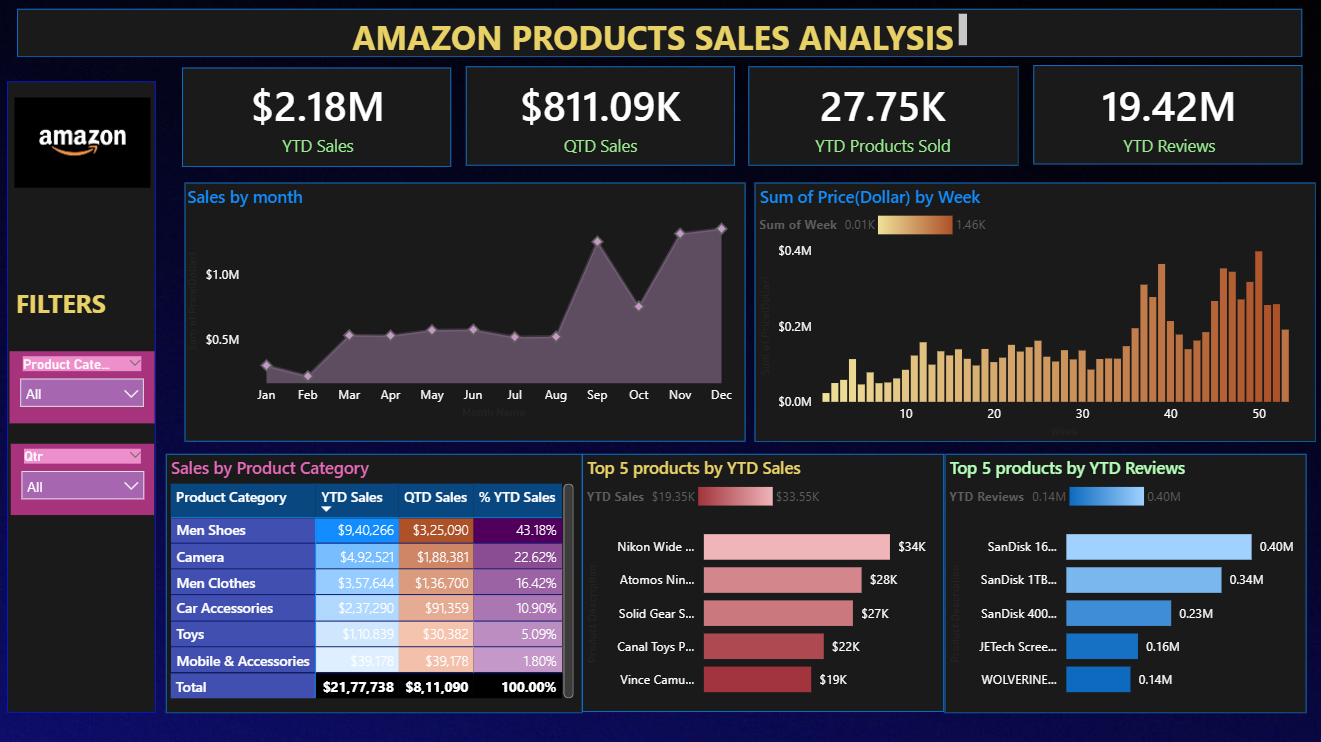

This screenshot's page, from the dashboard's own definition file:
{"tool":"powerbi","page":{"name":"Page 1","canvas":[1280,720],"ordinal":0},"visuals":[{"type":"shape","box":[19.2,8.2,1240.5,46.7],"z":0},{"type":"textbox","box":[337.8,8.4,603.2,45.8],"z":1000},{"type":"shape","box":[9.5,78.6,143.6,609.7],"z":2000},{"type":"shape","box":[178.6,65,259.8,96.1],"z":3000},{"type":"card","fields":{"Values":["Amazon_Data.YTD Sales"]},"box":[180.3,64.1,260.5,96.2],"z":4000},{"type":"shape","box":[452,63.6,259.8,96.1],"z":5000},{"type":"shape","box":[725.4,63.6,261.2,96.1],"z":6000},{"type":"shape","box":[1000.1,62.3,259.8,96.1],"z":7000},{"type":"card","fields":{"Values":["Amazon_Data.QTD Sales"]},"box":[452.9,64.1,260.5,96.2],"z":8000},{"type":"card","fields":{"Values":["Amazon_Data.YTD Products Sold"]},"box":[725.4,64.1,260.5,96.2],"z":9000},{"type":"card","fields":{"Values":["Amazon_Data.YTD Reviews"]},"box":[1001.9,64.1,260.5,96.2],"z":10000},{"type":"shape","box":[180.5,176.4,541.5,250.3],"z":11000},{"type":"areaChart","title":"Sales by month","fields":{"Category":["Date Table.Month Name"],"Y":["Sum(Amazon_Data.Price(Dollar))"]},"box":[178.8,178.8,541.9,230.3],"z":12000},{"type":"shape","box":[731.6,176.1,541.9,250.6],"z":13000},{"type":"columnChart","fields":{"Category":["Date Table.Week"],"Y":["Sum(Amazon_Data.Price(Dollar))"]},"box":[731.6,178.8,541.9,249.3],"z":14000},{"type":"shape","box":[162.6,437.6,402.4,250.6],"z":15000},{"type":"pivotTable","title":"Sales by Product Category ","fields":{"Rows":["Amazon_Data.Product Category"],"Values":["Amazon_Data.YTD Sales1","Amazon_Data.QTD Sales","Amazon_Data.YTD Sales"]},"box":[162.6,440.3,398.3,238.4],"z":16000},{"type":"shape","box":[564.9,437.6,349.5,249.3],"z":17000},{"type":"shape","box":[914.5,437.6,349.5,250.6],"z":18000},{"type":"clusteredBarChart","title":"Top 5 products by YTD Sales","fields":{"Category":["Amazon_Data.Product Description"],"Y":["Amazon_Data.YTD Sales"]},"box":[564.9,440.3,349.5,246.6],"z":19000},{"type":"clusteredBarChart","title":"Top 5 products by YTD Reviews","fields":{"Category":["Amazon_Data.Product Description"],"Y":["Amazon_Data.YTD Reviews"]},"box":[914.5,440.3,349.5,246.6],"z":20000},{"type":"slicer","fields":{"Values":["Amazon_Data.Product Category"]},"box":[12.1,339,139.9,70],"z":21000},{"type":"slicer","fields":{"Values":["Date Table.Qtr"]},"box":[13.3,428.3,138.7,68.8],"z":22000},{"type":"image","box":[12.1,86.9,141.2,101.3],"z":23000},{"type":"textbox","box":[13.3,271.4,144.8,45.8],"z":24000}]}

Visuals, with their boxes in screenshot pixels (x1, y1, x2, y2), scaled from the page's 1280x720 canvas onto the 1321x742 screenshot:
shape: x1=20, y1=8, x2=1300, y2=57
textbox: x1=349, y1=9, x2=971, y2=56
shape: x1=10, y1=81, x2=158, y2=709
shape: x1=184, y1=67, x2=452, y2=166
card - Amazon_Data.YTD Sales: x1=186, y1=66, x2=455, y2=165
shape: x1=466, y1=66, x2=735, y2=165
shape: x1=749, y1=66, x2=1018, y2=165
shape: x1=1032, y1=64, x2=1300, y2=163
card - Amazon_Data.QTD Sales: x1=467, y1=66, x2=736, y2=165
card - Amazon_Data.YTD Products Sold: x1=749, y1=66, x2=1017, y2=165
card - Amazon_Data.YTD Reviews: x1=1034, y1=66, x2=1303, y2=165
shape: x1=186, y1=182, x2=745, y2=440
"Sales by month" areaChart: x1=185, y1=184, x2=744, y2=422
shape: x1=755, y1=181, x2=1314, y2=440
columnChart - Date Table.Week x Sum(Amazon_Data.Price(Dollar)): x1=755, y1=184, x2=1314, y2=441
shape: x1=168, y1=451, x2=583, y2=709
"Sales by Product Category " pivotTable: x1=168, y1=454, x2=579, y2=699
shape: x1=583, y1=451, x2=944, y2=708
shape: x1=944, y1=451, x2=1304, y2=709
"Top 5 products by YTD Sales" clusteredBarChart: x1=583, y1=454, x2=944, y2=708
"Top 5 products by YTD Reviews" clusteredBarChart: x1=944, y1=454, x2=1304, y2=708
slicer - Amazon_Data.Product Category: x1=12, y1=349, x2=157, y2=421
slicer - Date Table.Qtr: x1=14, y1=441, x2=157, y2=512
image: x1=12, y1=90, x2=158, y2=194
textbox: x1=14, y1=280, x2=163, y2=327
